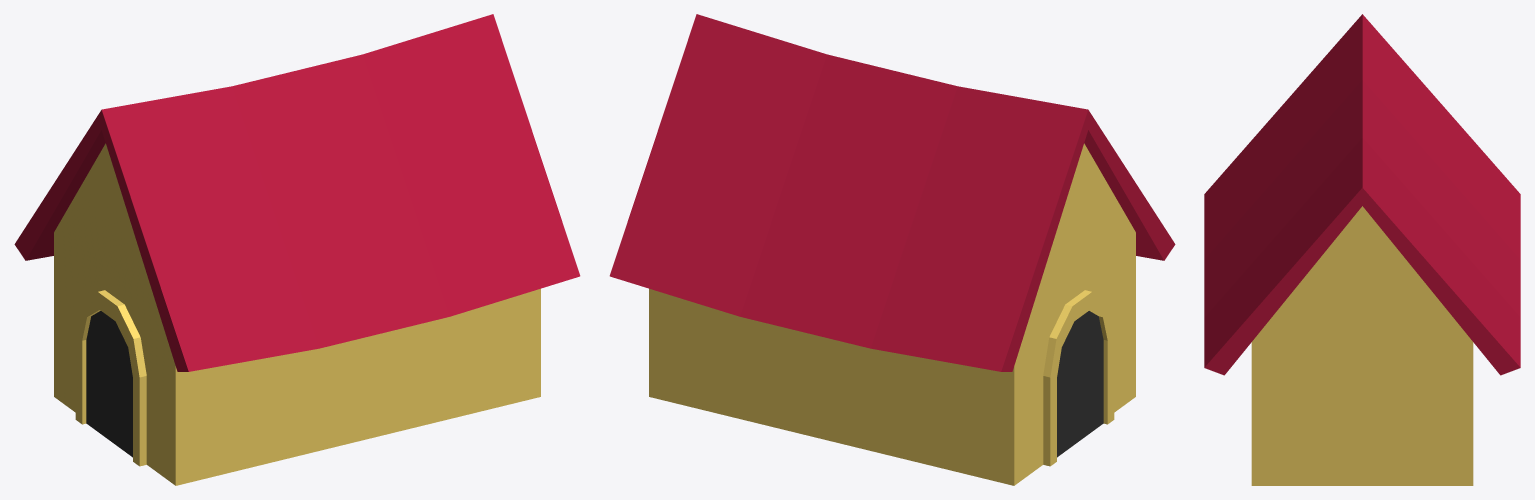
The model's file is dog_house_3.fbx.
The picture shows the model from 3 angles, left to right: view 1: azimuth 30°, elevation 25°; view 2: azimuth 150°, elevation 25°; view 3: azimuth 270°, elevation 25°; orthographic projection. The views are drawn at different scales.
Visible parts, largest first — view 1: dog_house_3; view 2: dog_house_3; view 3: dog_house_3.
Part boxes in pixels (<box>): dog_house_3: <box>14,14,580,485</box>; dog_house_3: <box>609,14,1175,485</box>; dog_house_3: <box>1204,14,1520,485</box>.
Size of the model in its own units: 1.67 by 1.37 by 1.29.
